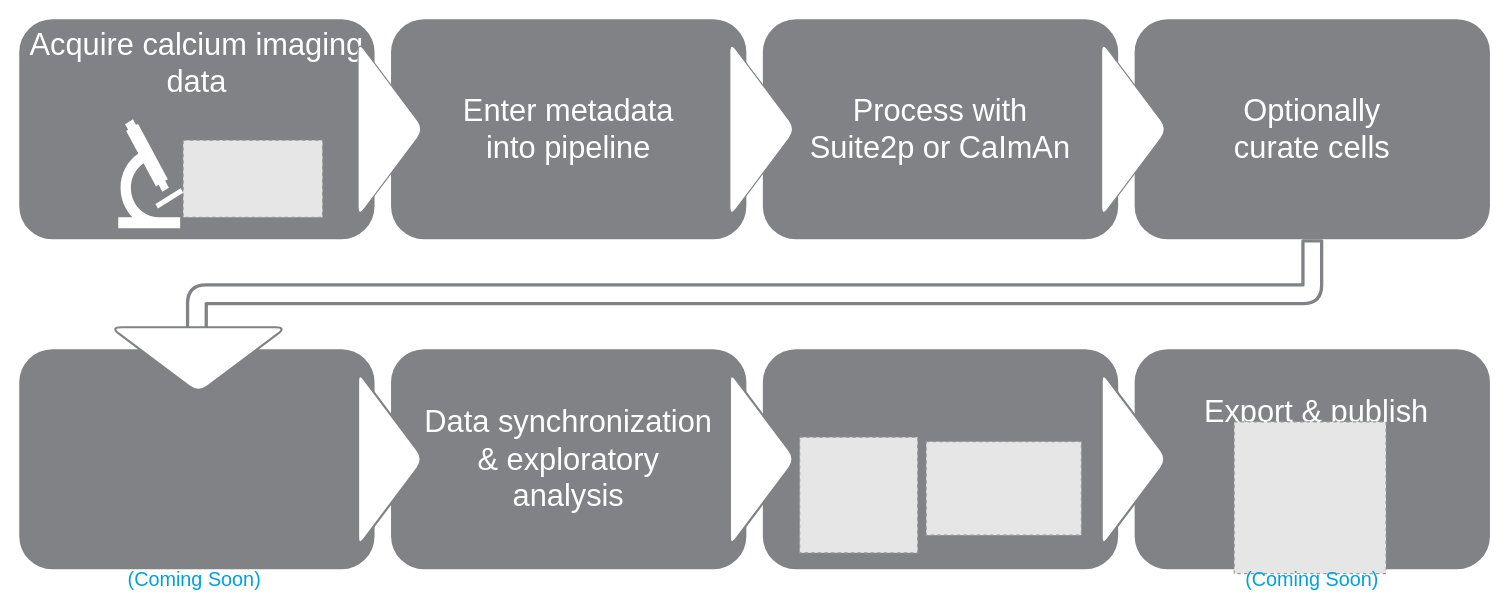
This 1508x615 diagram has some shape labels left out. Grey dashed boxes stand in for pictures. The box of each missing label's shape, as (x1, y1, x2, y2) in pixels:
Generate quality control metrics: (19, 349, 374, 569)
Visualize: (762, 349, 1118, 569)
